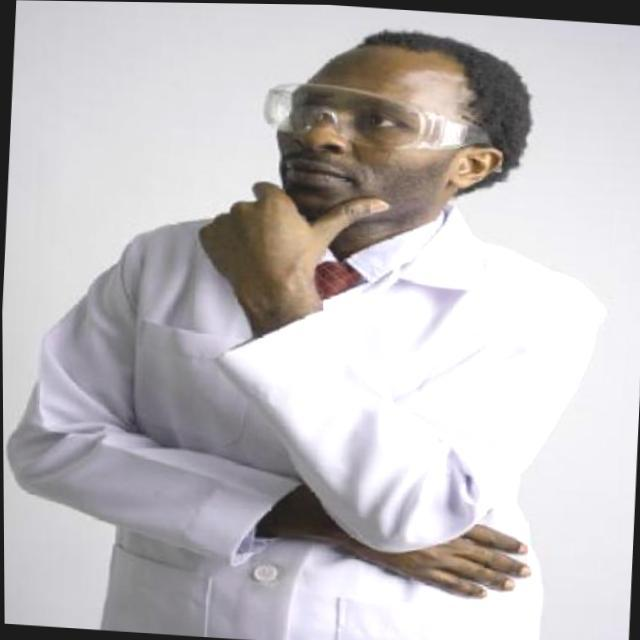goggles_on: (256, 78, 508, 170)
